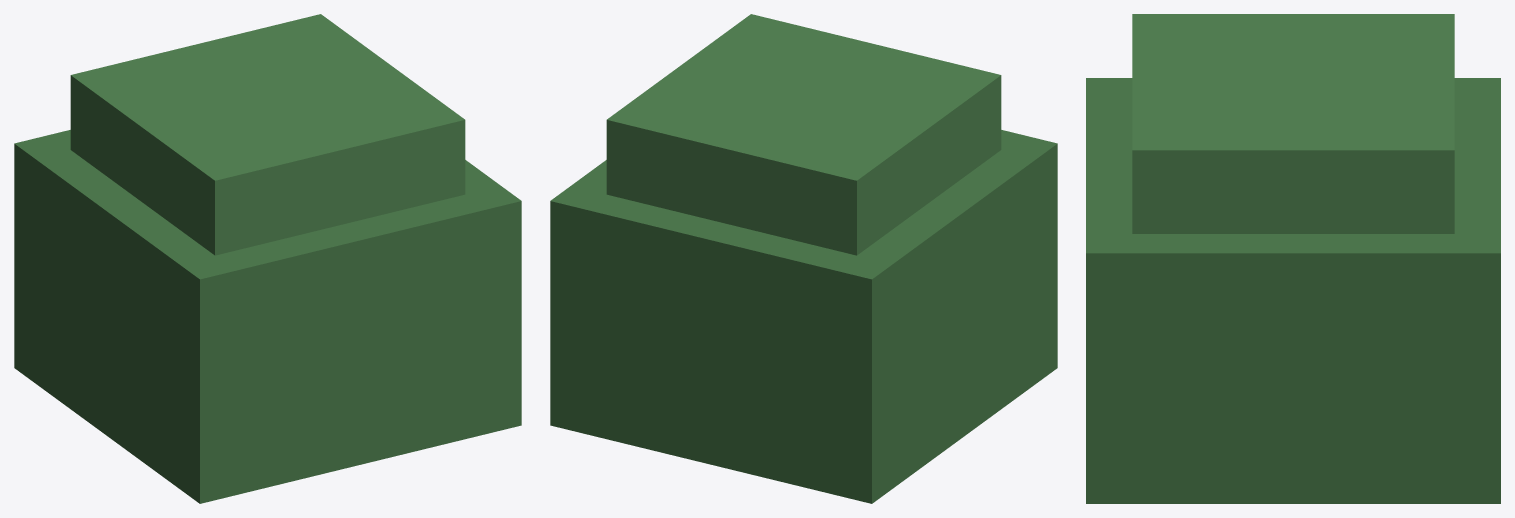
The model's file is acebo_03.glb.
3 renders of one model, left to right at view 1: azimuth 30°, elevation 25°; view 2: azimuth 150°, elevation 25°; view 3: azimuth 270°, elevation 25°, orthographic. The views are drawn at different scales.
Parts seen in each view (by area): view 1: acebo_03; view 2: acebo_03; view 3: acebo_03.
Boxes of the visible parts, x1,y1,x2,y2 form: acebo_03: [14, 14, 521, 503]; acebo_03: [550, 14, 1057, 503]; acebo_03: [1086, 14, 1500, 503].
Bounding box in the file's own units: 0.9 × 0.8 × 0.9.
